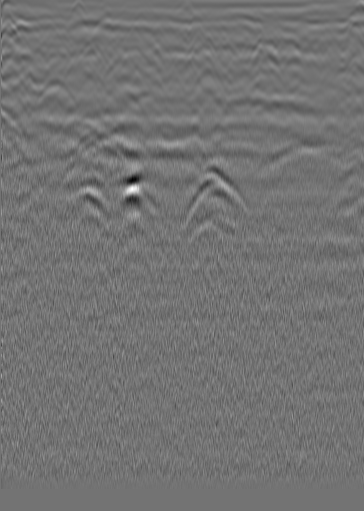가스: (75, 184, 108, 219)
상수: (296, 25, 316, 45)
오수: (11, 21, 31, 41)
우수: (169, 26, 189, 46)
